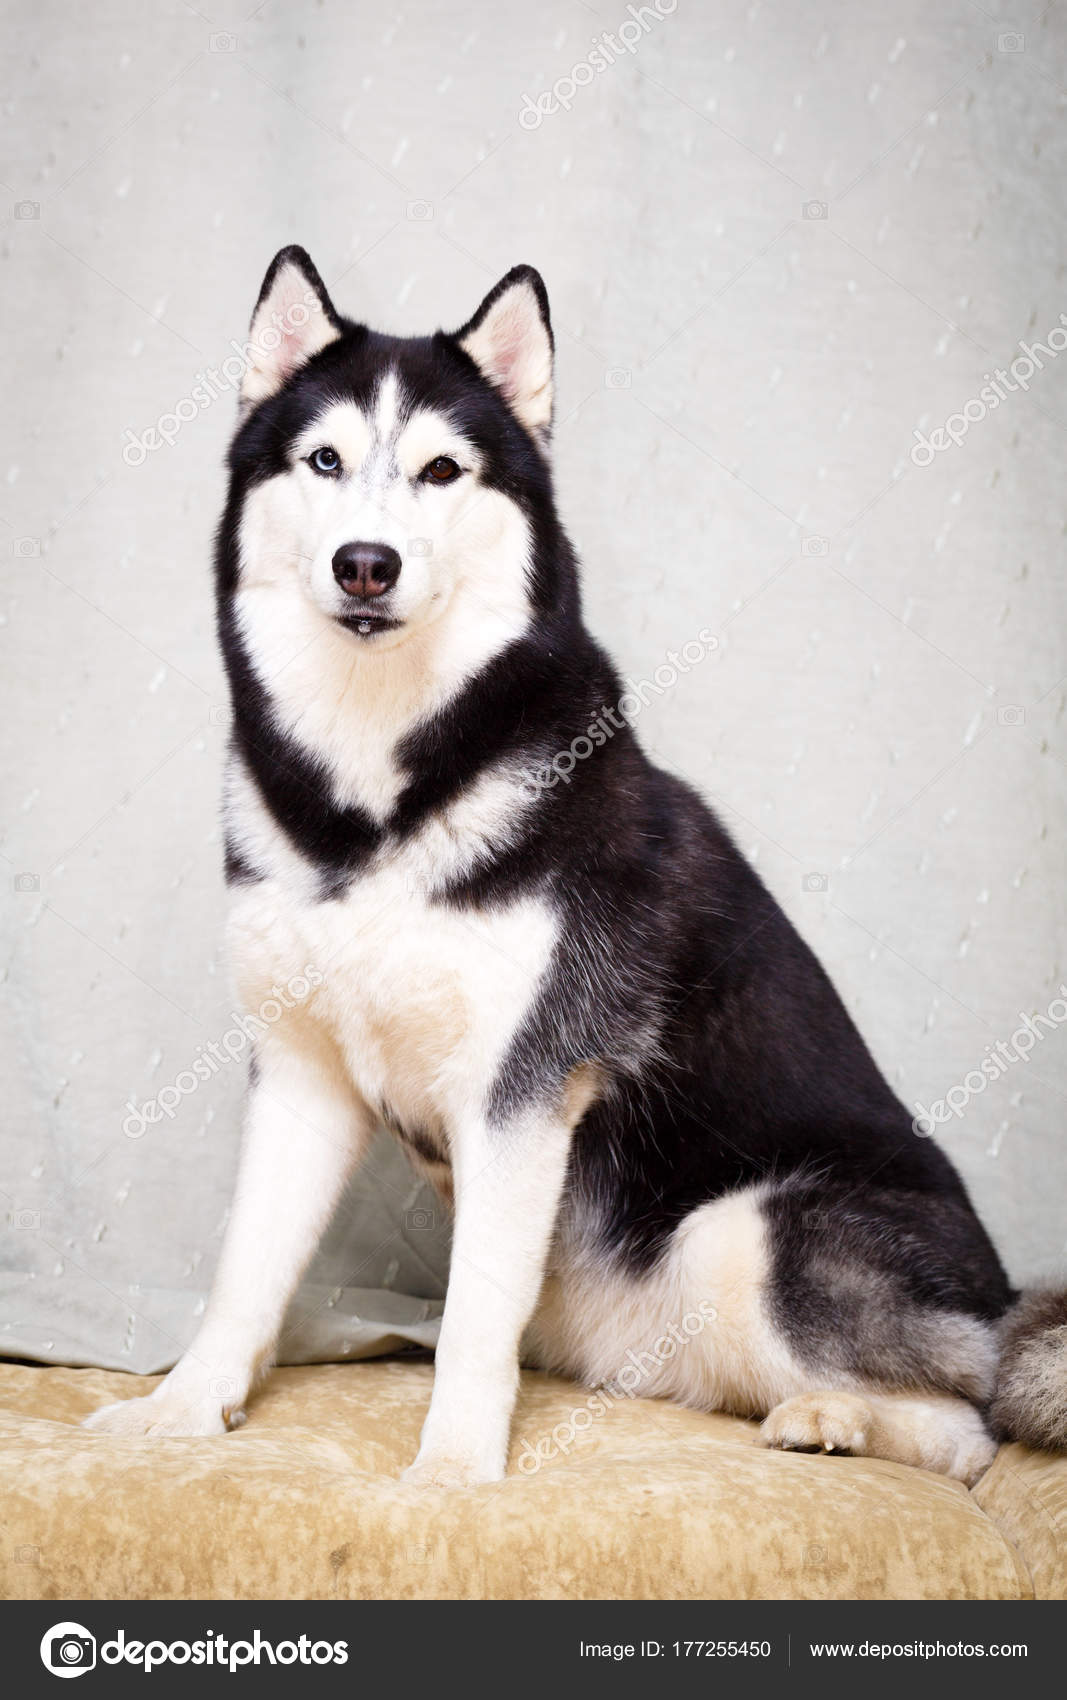husky: (145, 183, 1024, 1525)
